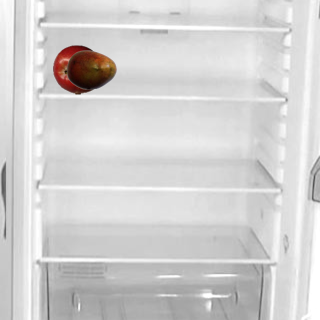Apple Braeburn: (52, 44, 102, 94)
Mango Red: (66, 44, 116, 94)
